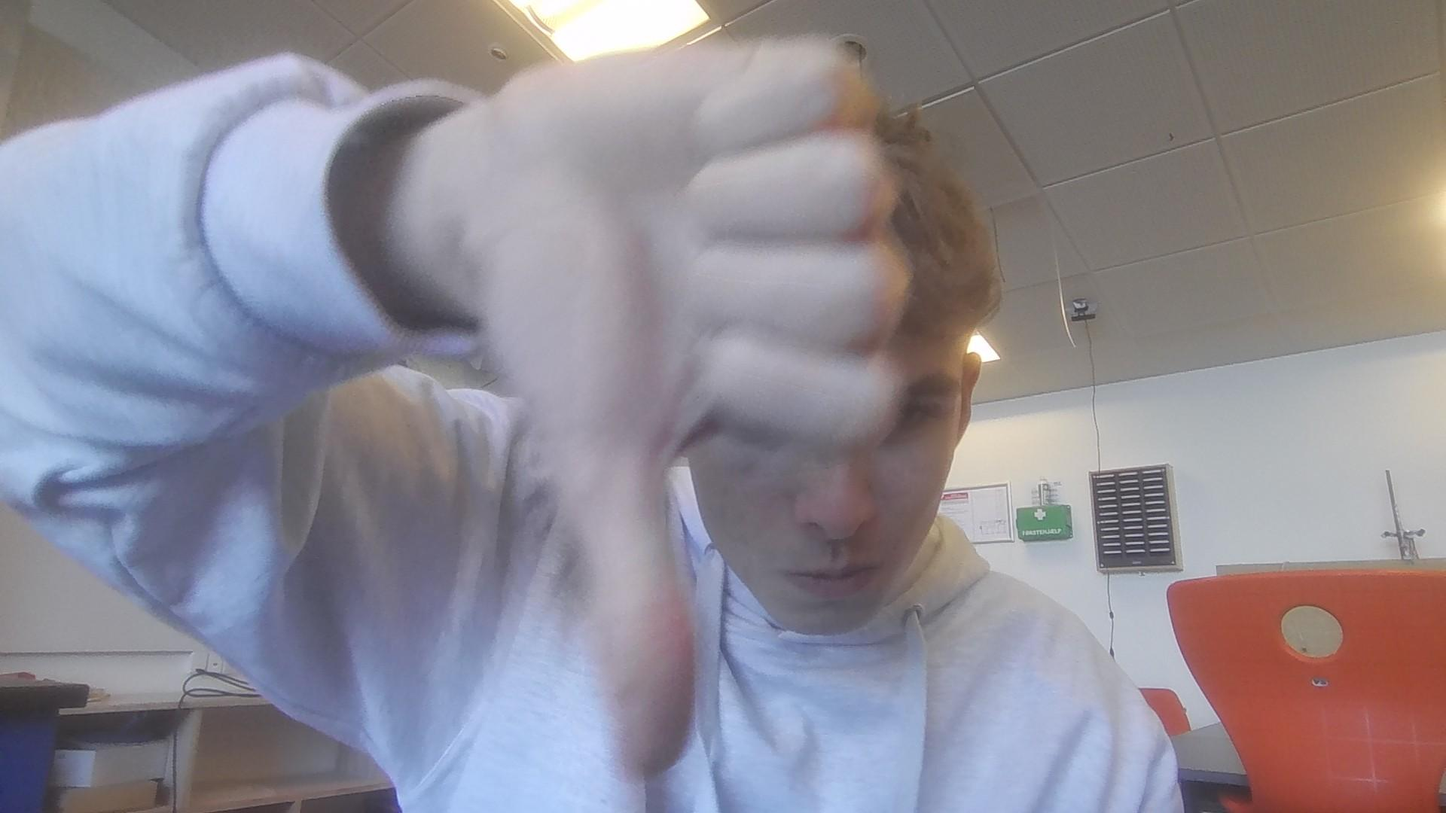thumbs down: (481, 28, 940, 789)
